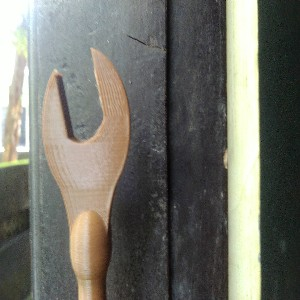spanner: (40, 46, 131, 300)
